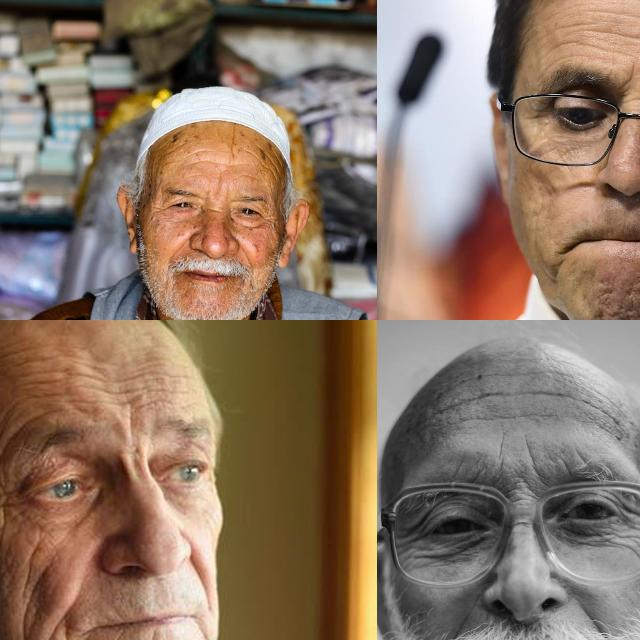chin: (594, 285, 640, 320)
crows_feet: (398, 519, 434, 557), (0, 477, 25, 521), (618, 502, 640, 547), (262, 213, 276, 233), (148, 203, 164, 219)
forehead: (548, 16, 620, 62), (82, 370, 148, 404), (492, 378, 554, 408), (561, 386, 607, 419), (158, 366, 194, 406), (441, 384, 479, 418), (244, 144, 282, 176), (28, 369, 68, 398), (0, 403, 25, 448), (160, 137, 190, 165), (630, 18, 640, 62)
frown_line: (522, 442, 548, 483), (492, 441, 510, 484), (615, 68, 635, 100), (124, 409, 140, 445), (211, 173, 227, 203)
gummy_smile: (577, 599, 613, 639), (48, 606, 80, 640), (452, 594, 474, 640), (191, 559, 215, 599), (170, 231, 192, 263), (235, 240, 252, 266)
masseter: (18, 544, 50, 596), (12, 612, 42, 640)
